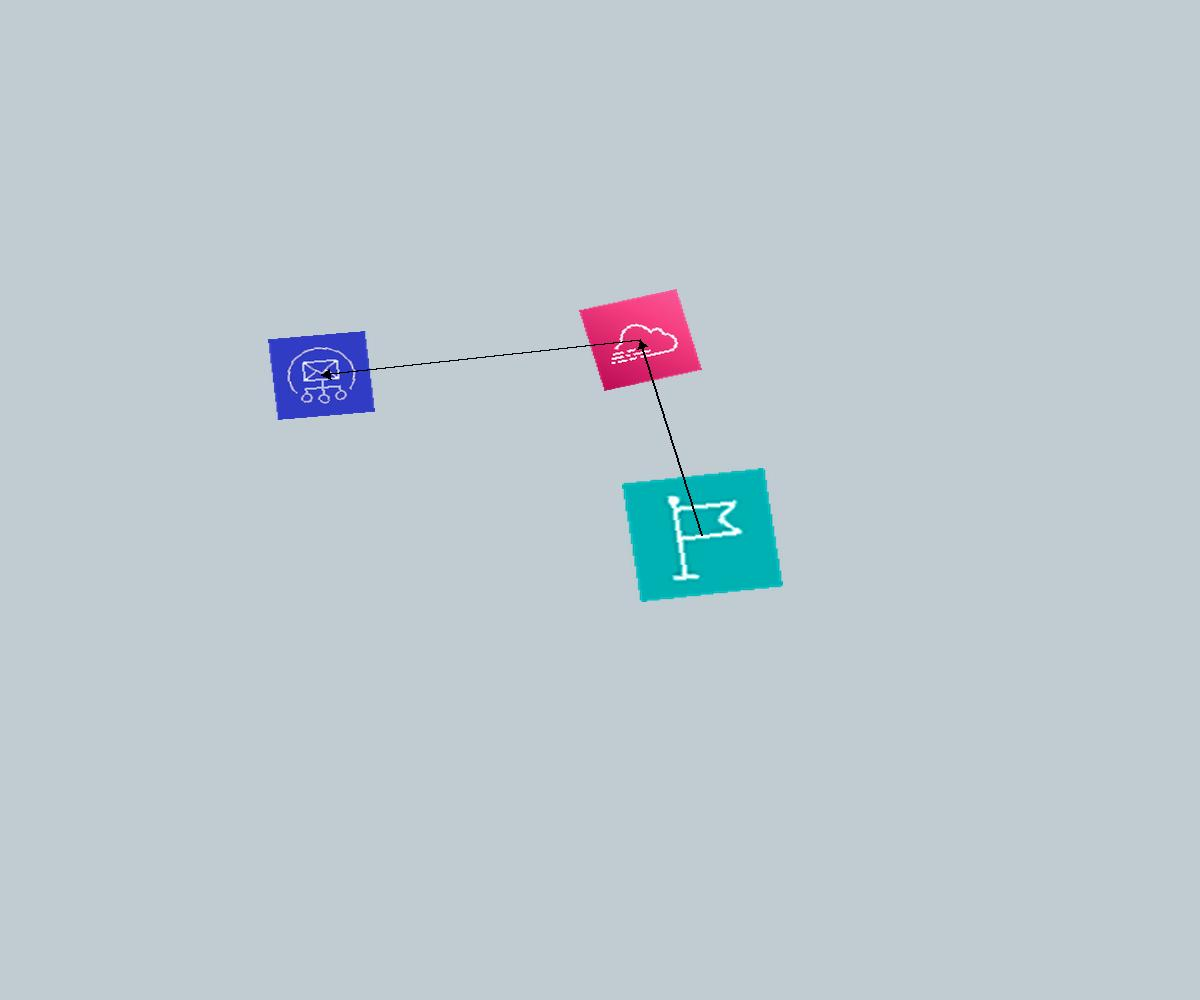AWS-CloudTrail: (579, 289, 702, 391)
AWS-Region: (622, 468, 783, 602)
AWS-Simple-Email-Service: (268, 331, 375, 420)
